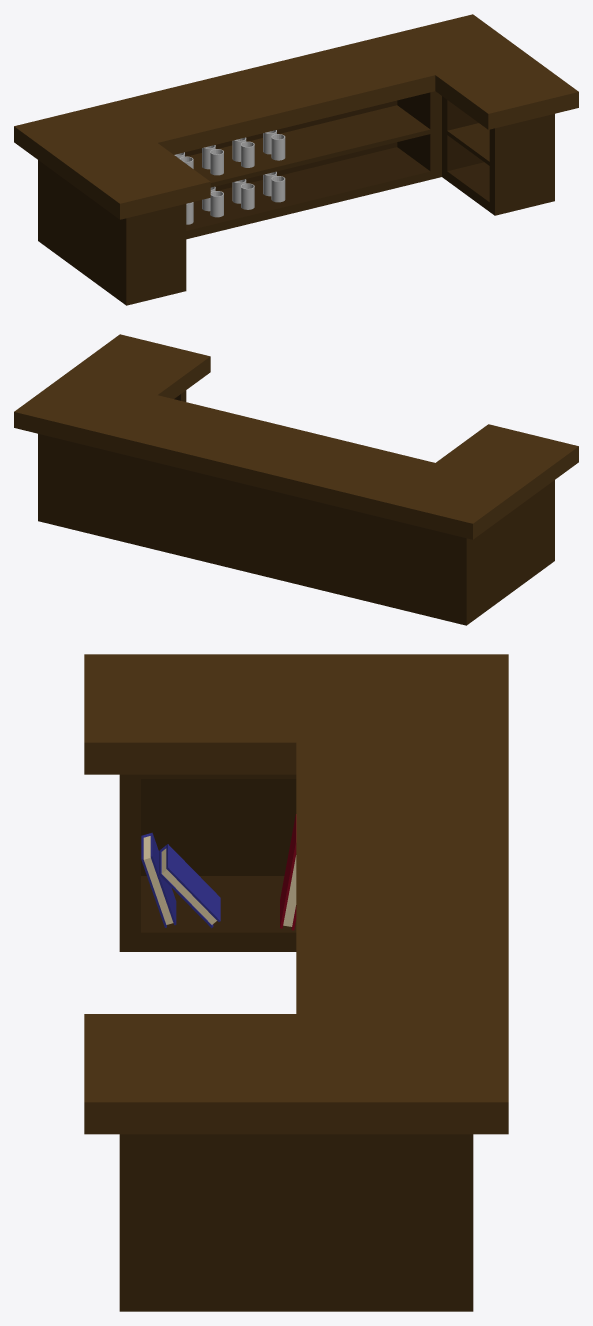
Rendered from Counter.fbx.
The picture shows the model from 3 angles, top to bottom: view 1: azimuth 30°, elevation 25°; view 2: azimuth 150°, elevation 25°; view 3: azimuth 270°, elevation 25°; orthographic projection. The views are drawn at different scales.
Visible parts, largest first — view 1: pCube1, pCylinder1, pCylinder16; view 2: pCube1; view 3: pCube1, pCube3, pCube2, pCube4.
Boxes of the visible parts, bbox=[...] form: pCube1: bbox=[14, 14, 578, 305]; pCylinder1: bbox=[271, 134, 285, 160]; pCylinder16: bbox=[271, 176, 285, 202]; pCube1: bbox=[14, 334, 578, 625]; pCube1: bbox=[84, 654, 508, 1311]; pCube3: bbox=[159, 844, 220, 928]; pCube2: bbox=[141, 832, 176, 927]; pCube4: bbox=[280, 814, 296, 930].
Bounding box in the file's own units: 15 × 3.5 × 6.
